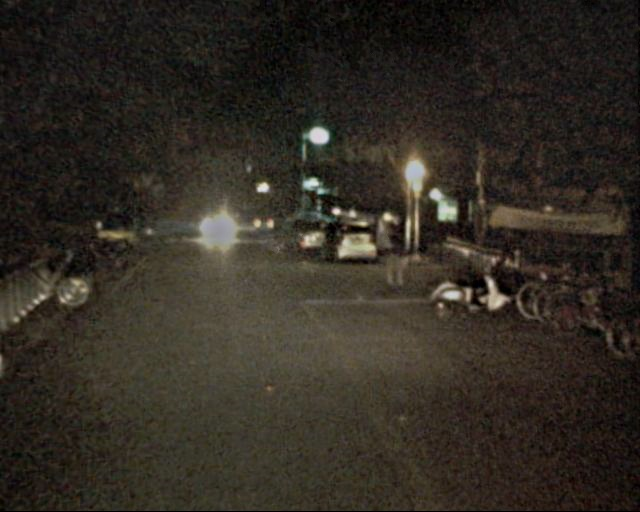person: (378, 227, 406, 295)
